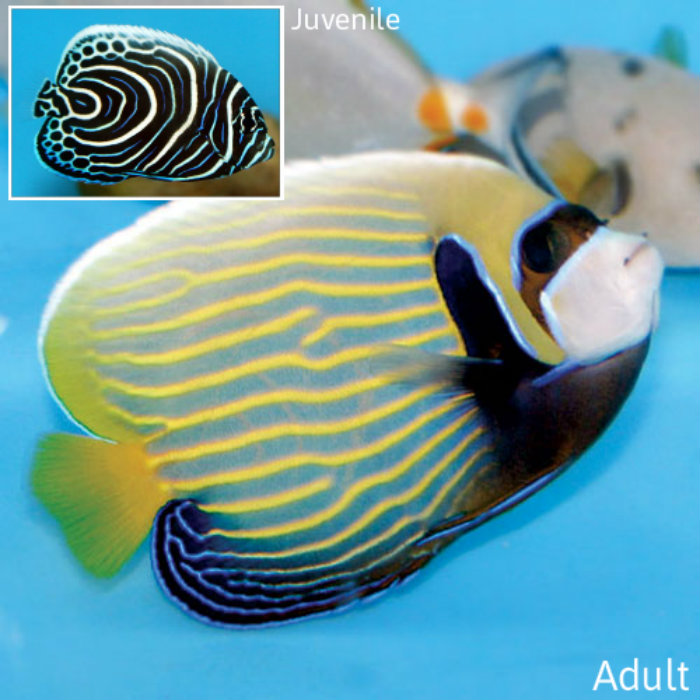Pomacanthus_imperator: (44, 157, 672, 636), (22, 16, 274, 184)
